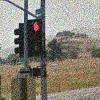traffic lights: (28, 16, 43, 56)
